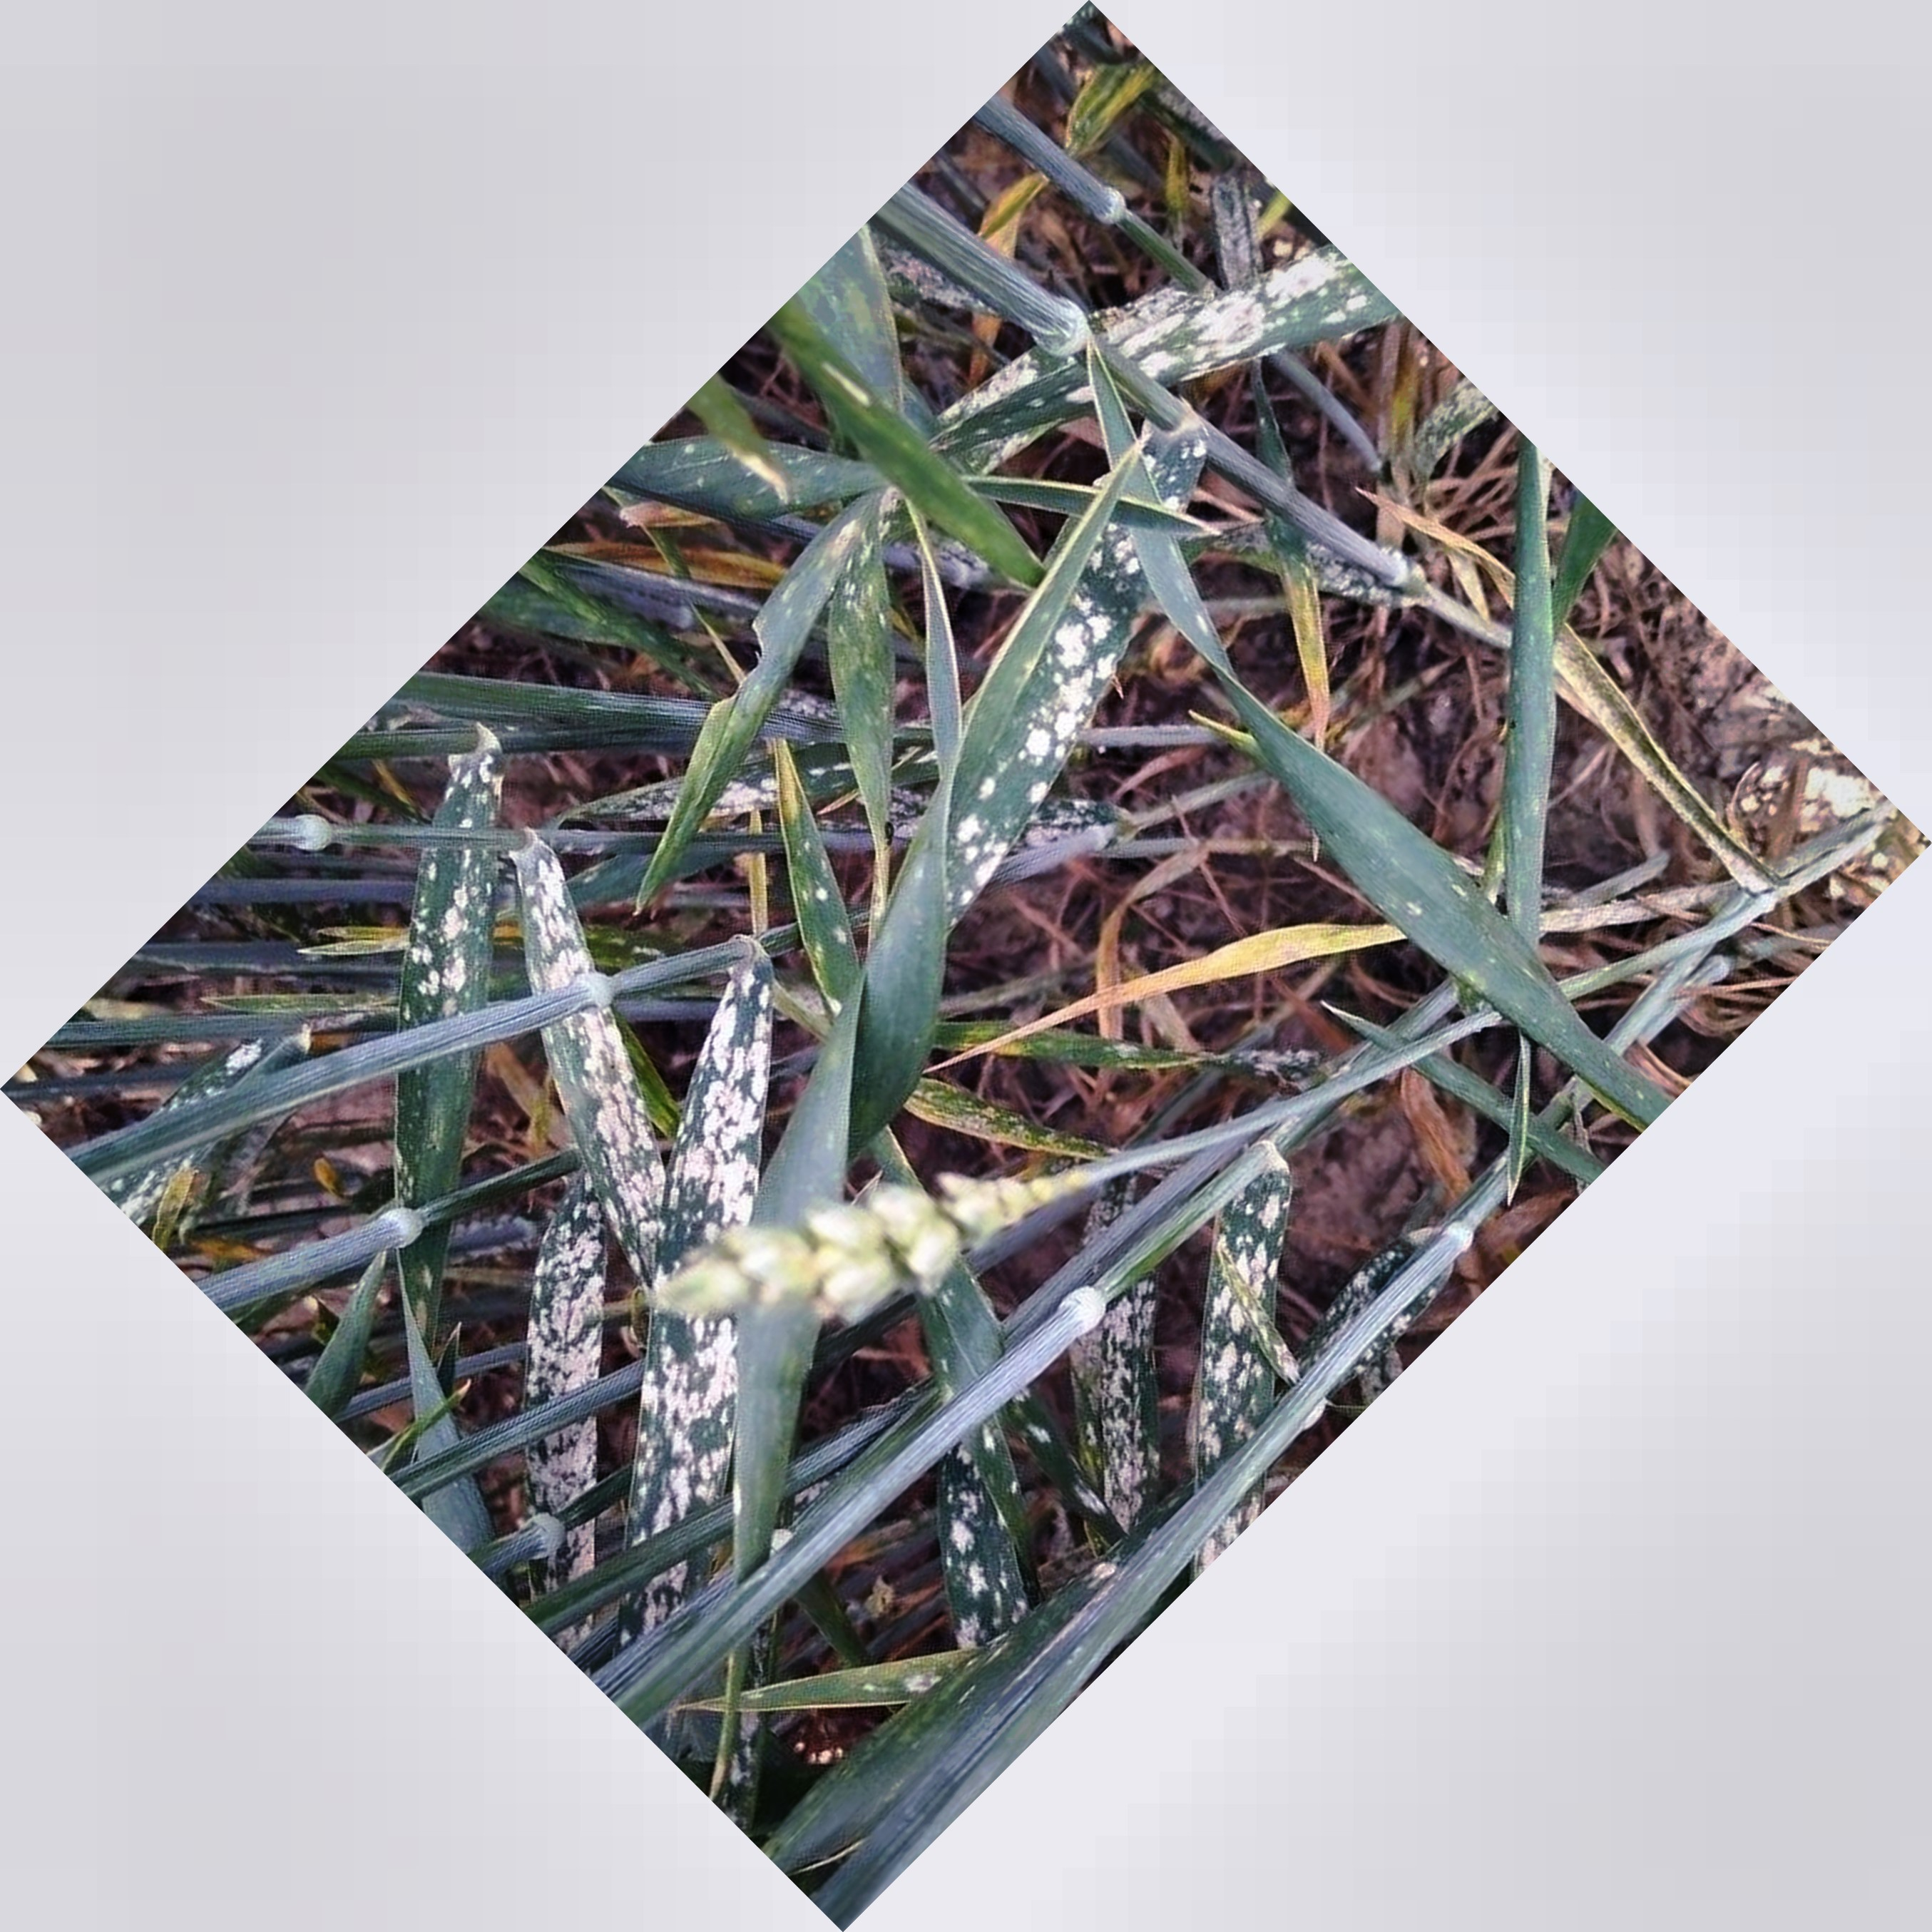Powdery Mildew: (467, 971, 796, 1640), (987, 290, 1299, 846), (1060, 1194, 1300, 1545)
